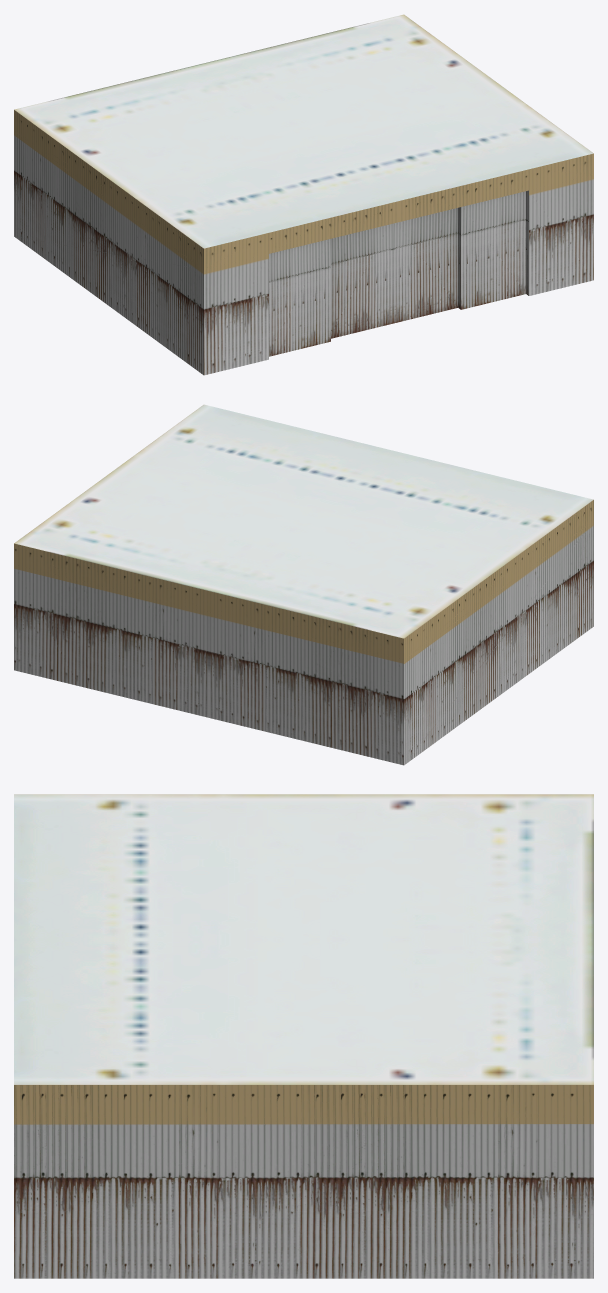
The model's file is HangarSmall.gltf.
The picture shows the model from 3 angles, top to bottom: view 1: azimuth 30°, elevation 25°; view 2: azimuth 150°, elevation 25°; view 3: azimuth 270°, elevation 25°; orthographic projection. The views are drawn at different scales.
Parts seen in each view (by area): view 1: HangarSmall; view 2: HangarSmall; view 3: HangarSmall.
Part boxes in pixels (x1,y1,x2,y2): HangarSmall: (14, 14, 593, 375); HangarSmall: (14, 404, 593, 765); HangarSmall: (14, 794, 593, 1278).
Size of the model in its own units: 19.31 by 6 by 16.28.
1 material, 1 textured.
